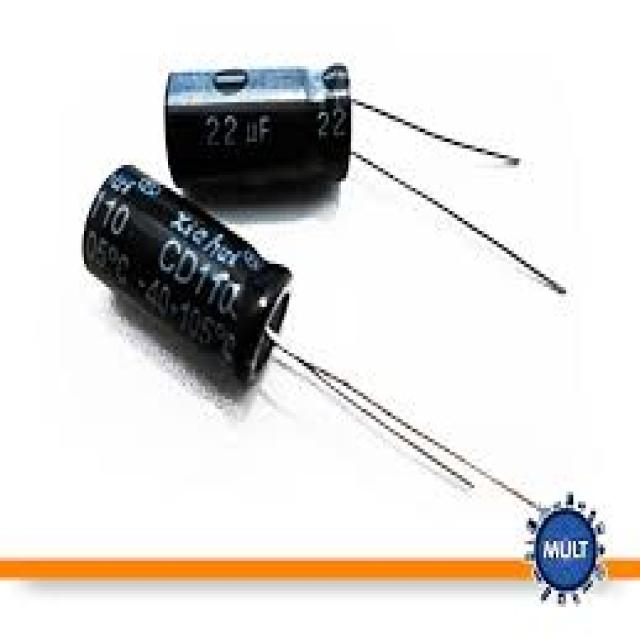Capacitor: (82, 165, 292, 389), (163, 63, 353, 211)
